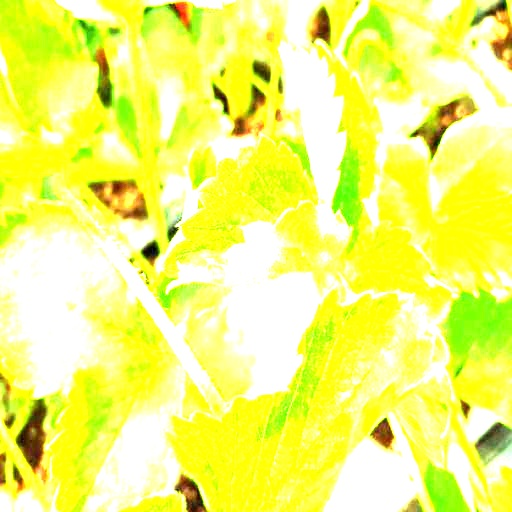Powdery Mildew Leaf: (159, 284, 438, 511), (158, 134, 353, 293), (341, 219, 458, 471), (277, 40, 384, 231)
